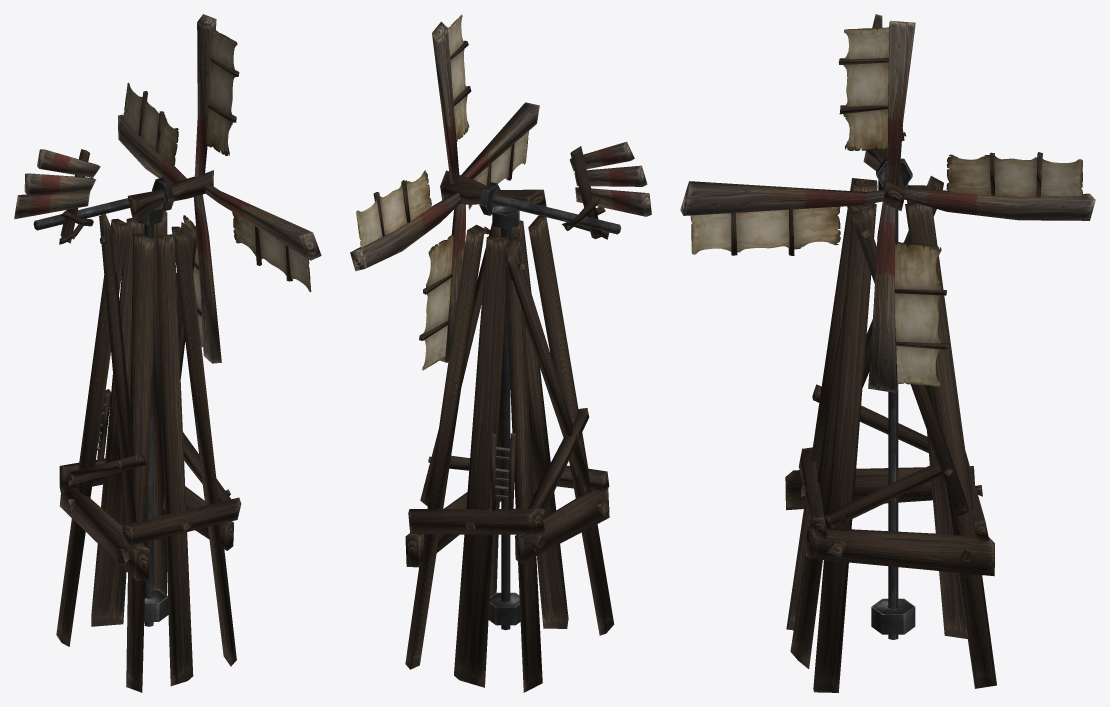
3 renders of one model, left to right at view 1: azimuth 30°, elevation 25°; view 2: azimuth 150°, elevation 25°; view 3: azimuth 270°, elevation 25°, orthographic. The views are drawn at different scales.
Size of the model in its own units: 8.81 by 23.9 by 13.16.
3 materials, 3 textured.
